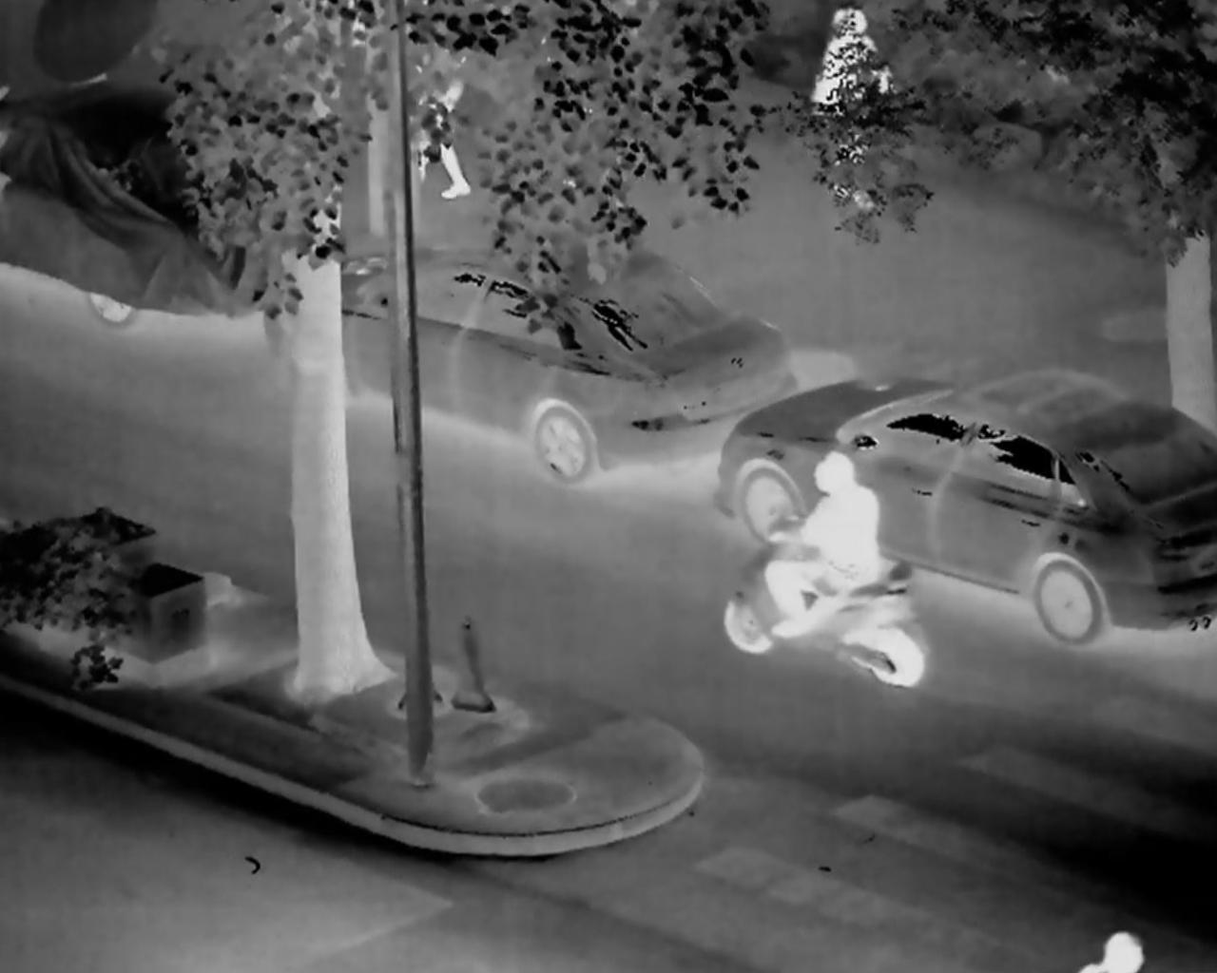person: (763, 425, 886, 662), (397, 29, 486, 203), (813, 9, 889, 144), (1058, 933, 1158, 973)
